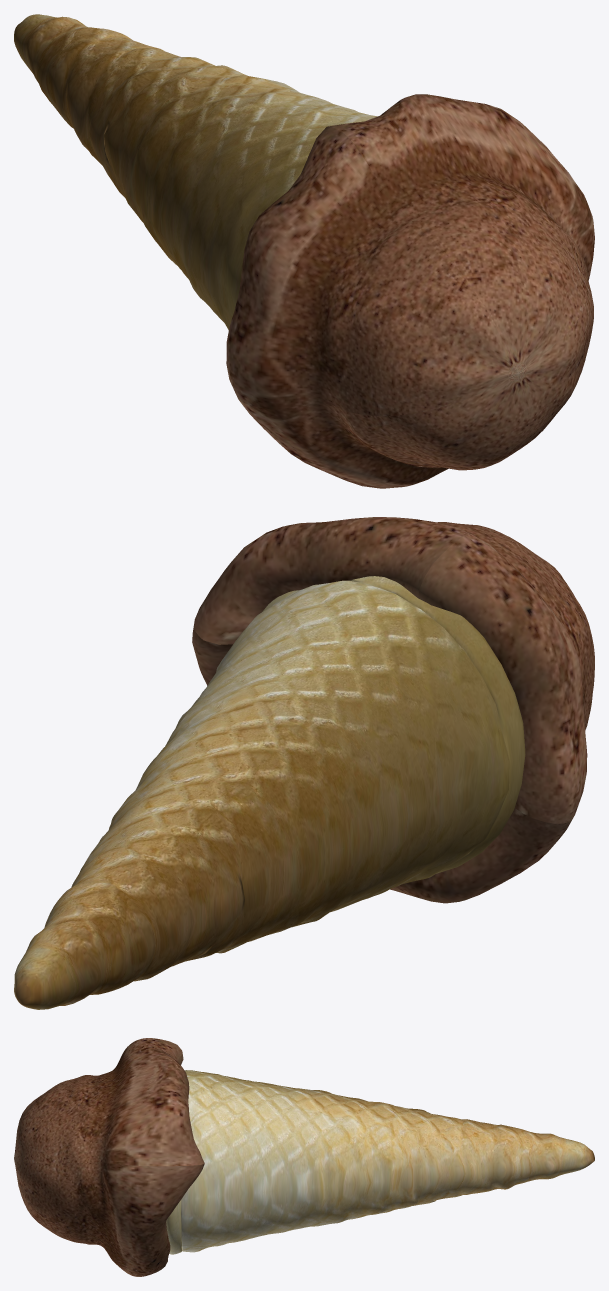
3 views of the same model, one above another, from view 1: azimuth 30°, elevation 25°; view 2: azimuth 150°, elevation 25°; view 3: azimuth 270°, elevation 25° (orthographic). The views are drawn at different scales.
Parts seen in each view (by area): view 1: icecream_choco_material-material, ice_cream_cone_material-material; view 2: ice_cream_cone_material-material, icecream_choco_material-material; view 3: ice_cream_cone_material-material, icecream_choco_material-material.
Boxes of the visible parts, x1,y1,x2,y2 form: icecream_choco_material-material: (226, 94, 594, 488); ice_cream_cone_material-material: (14, 14, 377, 330); ice_cream_cone_material-material: (14, 576, 525, 1009); icecream_choco_material-material: (192, 517, 594, 903); ice_cream_cone_material-material: (166, 1070, 594, 1254); icecream_choco_material-material: (14, 1038, 204, 1276).
Bounding box in the file's own units: 2.75 × 2.72 × 6.59.
2 materials, 2 textured.
